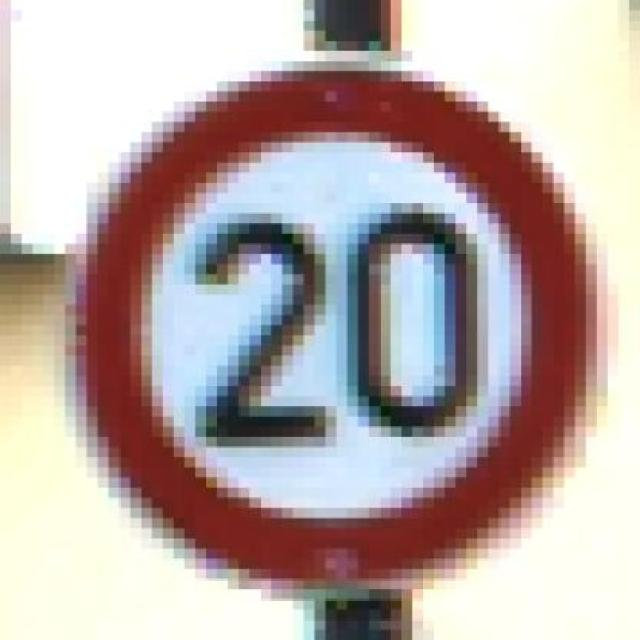forb_speed_over_20: (76, 71, 598, 588)
